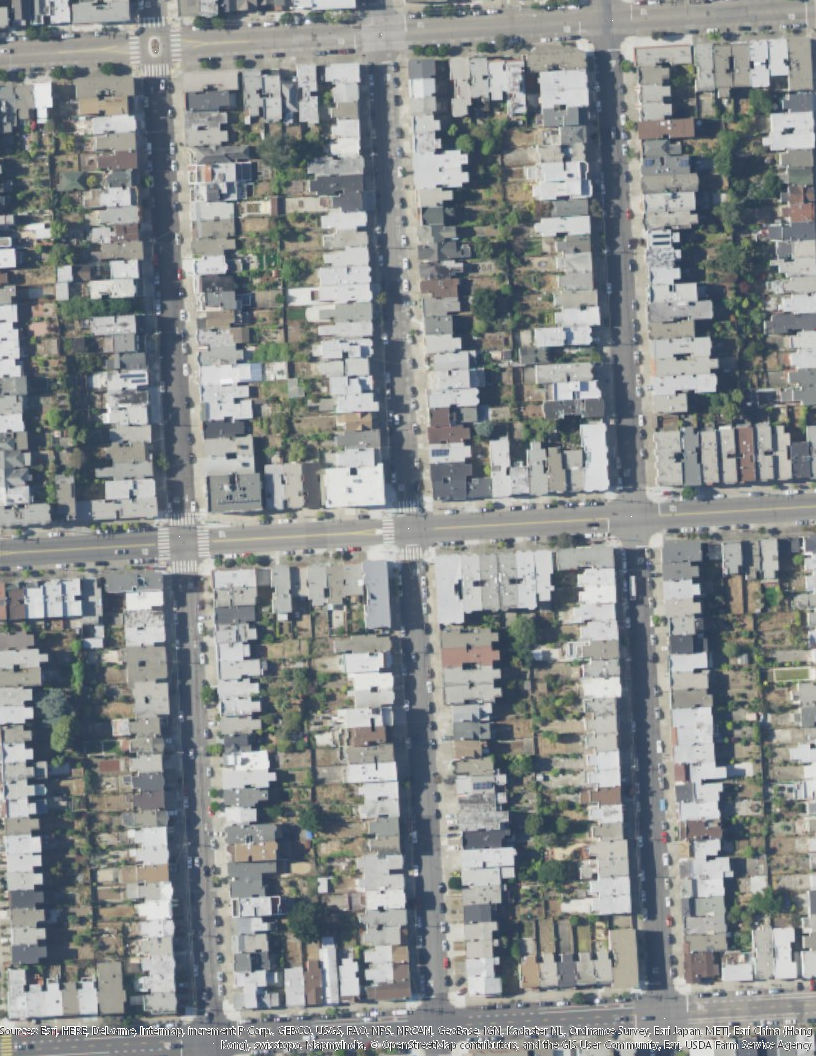zebracross: (168, 29, 183, 64), (196, 526, 211, 557), (141, 62, 170, 78), (398, 497, 422, 516), (382, 516, 397, 546), (127, 31, 140, 65), (157, 528, 170, 560), (140, 16, 168, 30), (170, 511, 196, 525), (172, 561, 198, 574), (403, 545, 422, 560)
